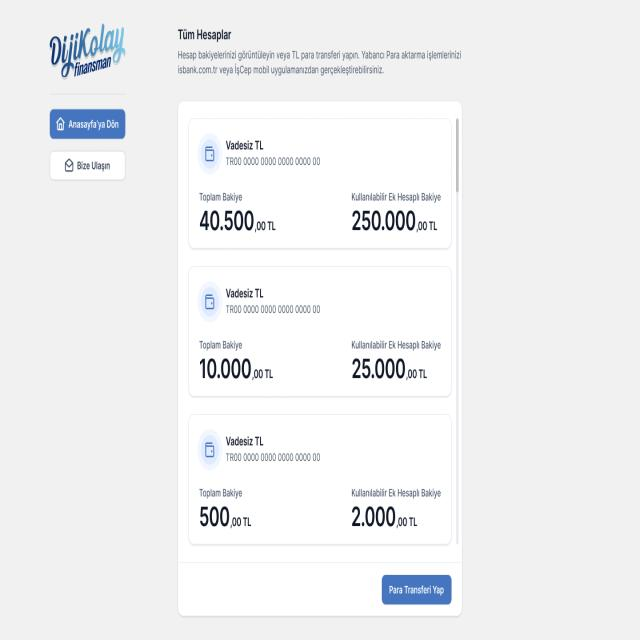QLabel: (177, 46, 463, 63), (177, 64, 387, 77), (352, 210, 416, 232), (225, 303, 322, 316), (348, 338, 444, 351), (348, 190, 444, 203), (199, 210, 255, 232), (348, 486, 442, 499), (352, 357, 405, 380), (199, 357, 252, 380), (387, 580, 446, 600), (224, 155, 320, 167), (225, 451, 320, 463), (351, 505, 396, 528), (177, 28, 233, 41), (198, 505, 230, 527), (68, 118, 119, 131), (197, 338, 246, 351), (197, 190, 246, 203), (197, 486, 245, 498), (225, 434, 265, 448), (225, 286, 268, 299), (224, 138, 267, 150), (75, 159, 111, 171), (416, 220, 438, 232), (397, 516, 418, 528), (231, 516, 251, 528), (252, 368, 272, 380), (256, 220, 276, 232), (406, 367, 426, 379)
VBtn: (50, 150, 126, 181), (49, 109, 126, 139), (381, 575, 452, 605)
VCard: (178, 99, 462, 620), (188, 414, 452, 546), (188, 118, 452, 250), (188, 266, 451, 398)
VDivider: (178, 560, 462, 566)
VIcon: (196, 280, 224, 324), (196, 428, 224, 472), (197, 133, 223, 175), (205, 146, 214, 162), (56, 117, 65, 131), (65, 158, 73, 172)
VImg: (50, 25, 126, 79)
